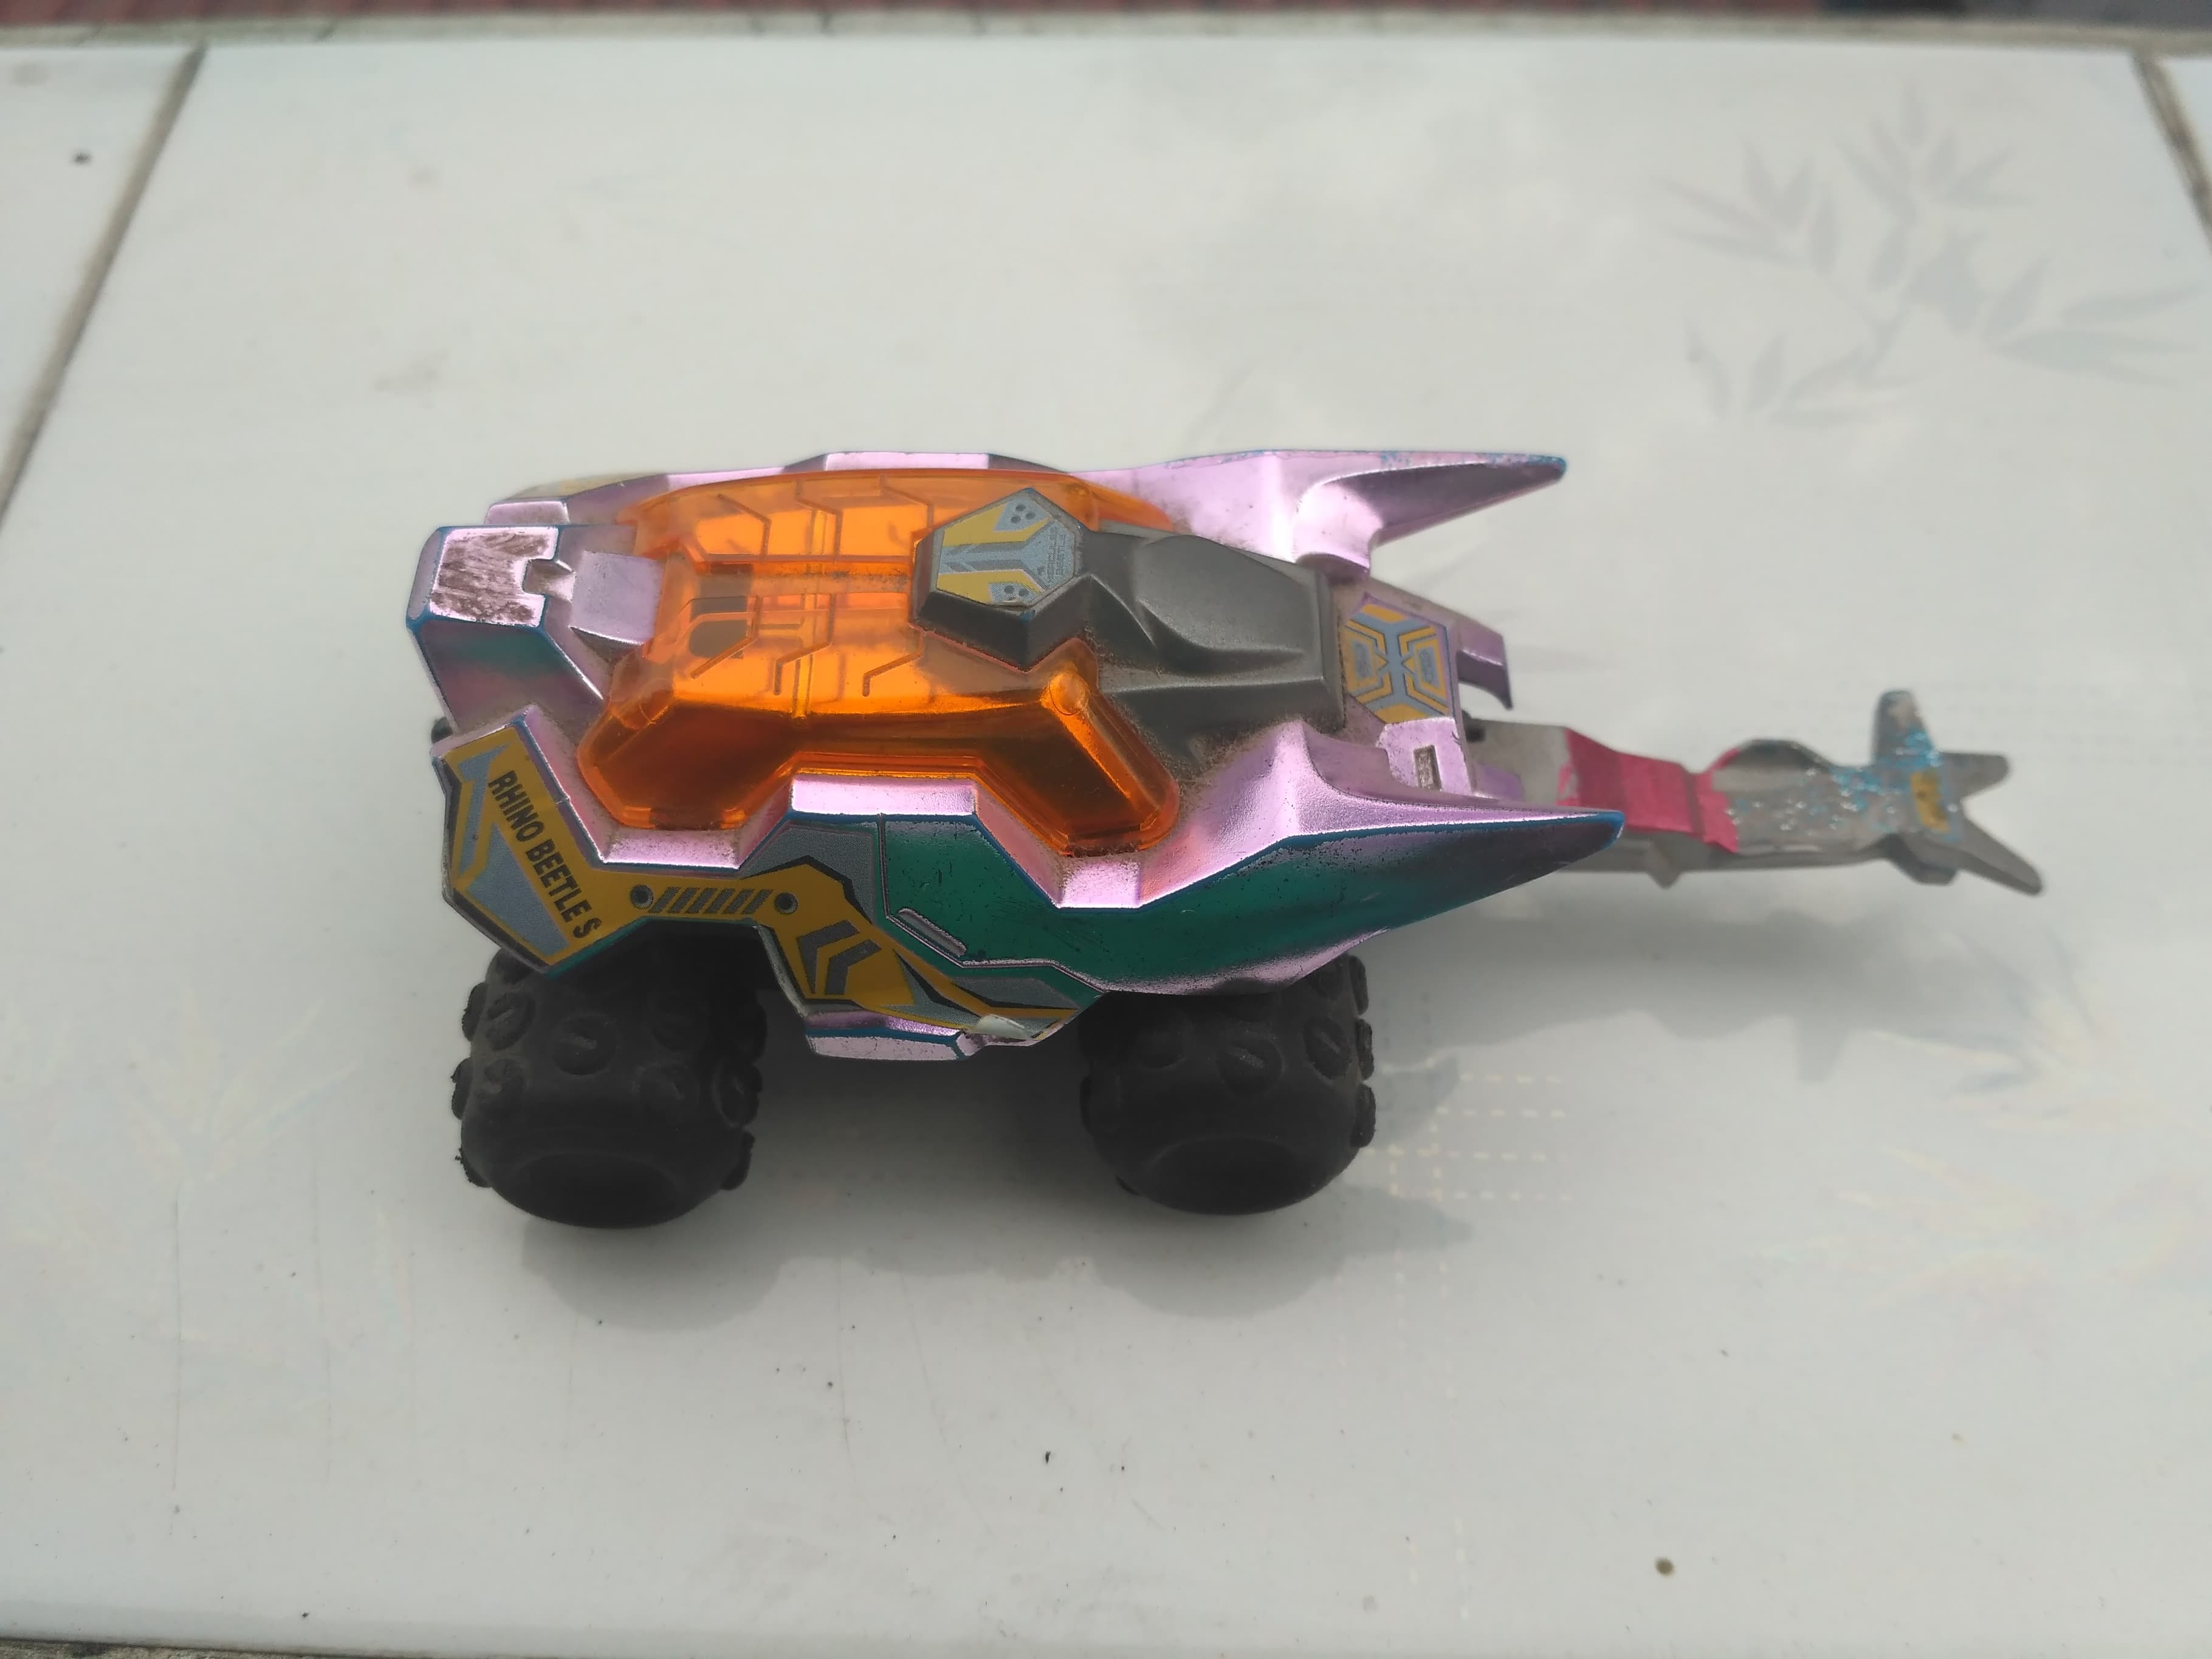rhino: (392, 439, 2059, 1234)
